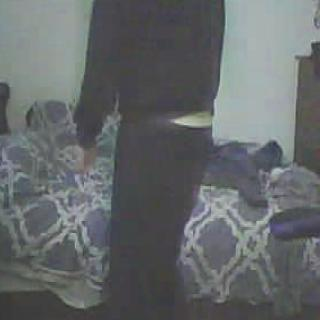Navy Sweatpants: (103, 120, 212, 320)
